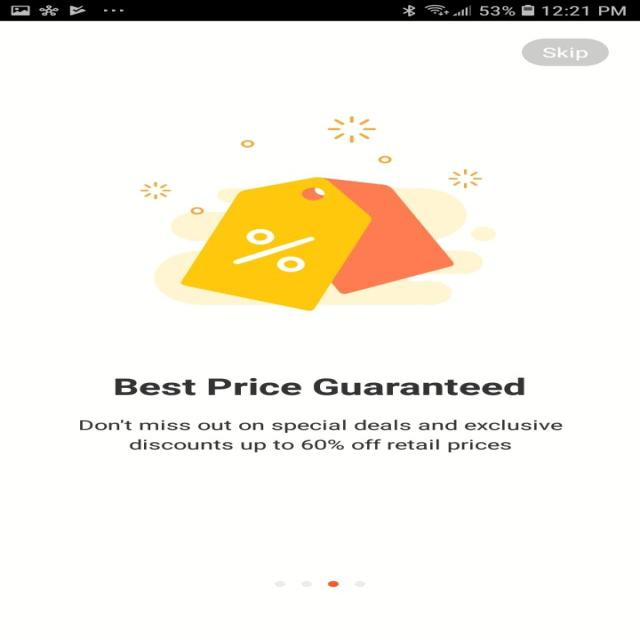Image: (138, 116, 496, 311)
Text: (79, 418, 562, 453), (116, 377, 524, 396)
TextButton: (521, 38, 609, 66)
